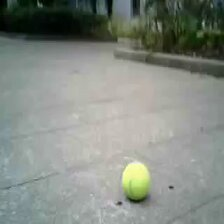tennis: (122, 162, 151, 198)
